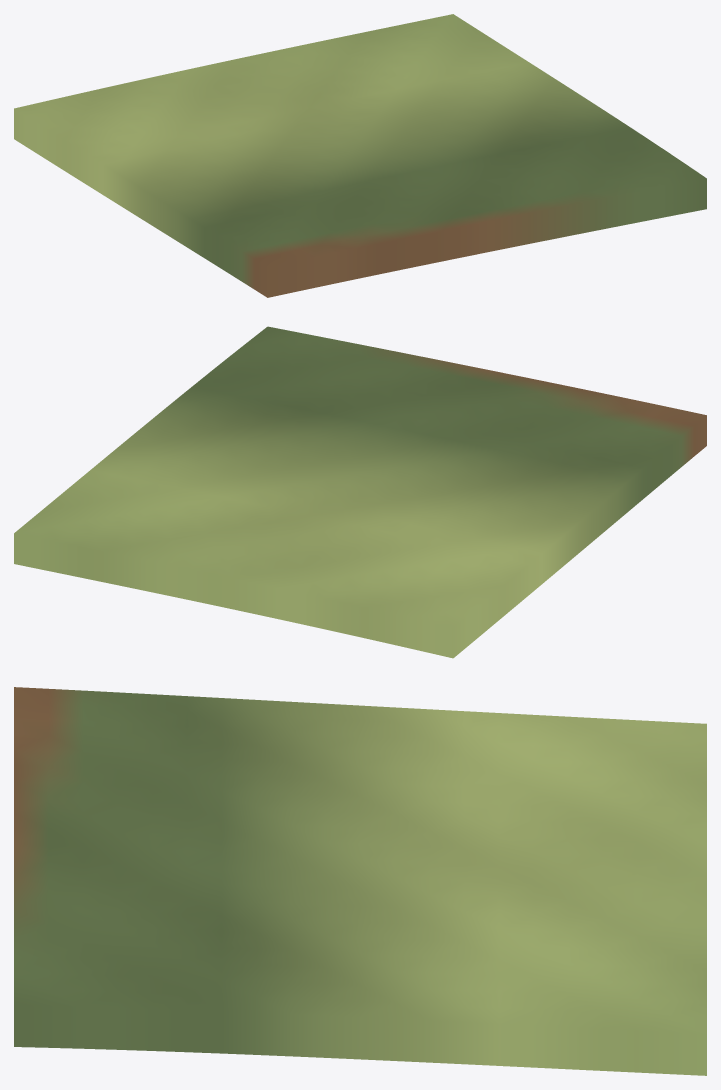
The picture shows the model from 3 angles, top to bottom: view 1: azimuth 30°, elevation 25°; view 2: azimuth 150°, elevation 25°; view 3: azimuth 270°, elevation 25°; orthographic projection. The views are drawn at different scales.
Parts seen in each view (by area): view 1: terrain; view 2: terrain; view 3: terrain.
Boxes of the visible parts, left/top/right/bottom form: terrain: left=14, top=14, right=706, bottom=297; terrain: left=14, top=326, right=706, bottom=658; terrain: left=14, top=687, right=706, bottom=1075.
Bounding box in the file's own units: 30 × 4.59 × 30.
